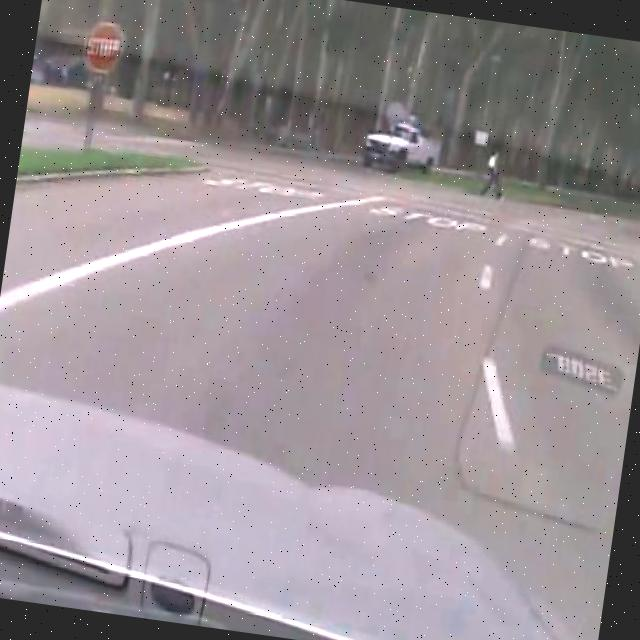Stop: (79, 17, 127, 75)
